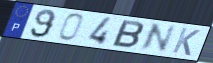0: (57, 12, 87, 43)
4: (86, 16, 114, 47)
9: (29, 8, 57, 39)
B: (110, 18, 145, 50)
K: (170, 26, 202, 57)
N: (137, 22, 178, 53)
